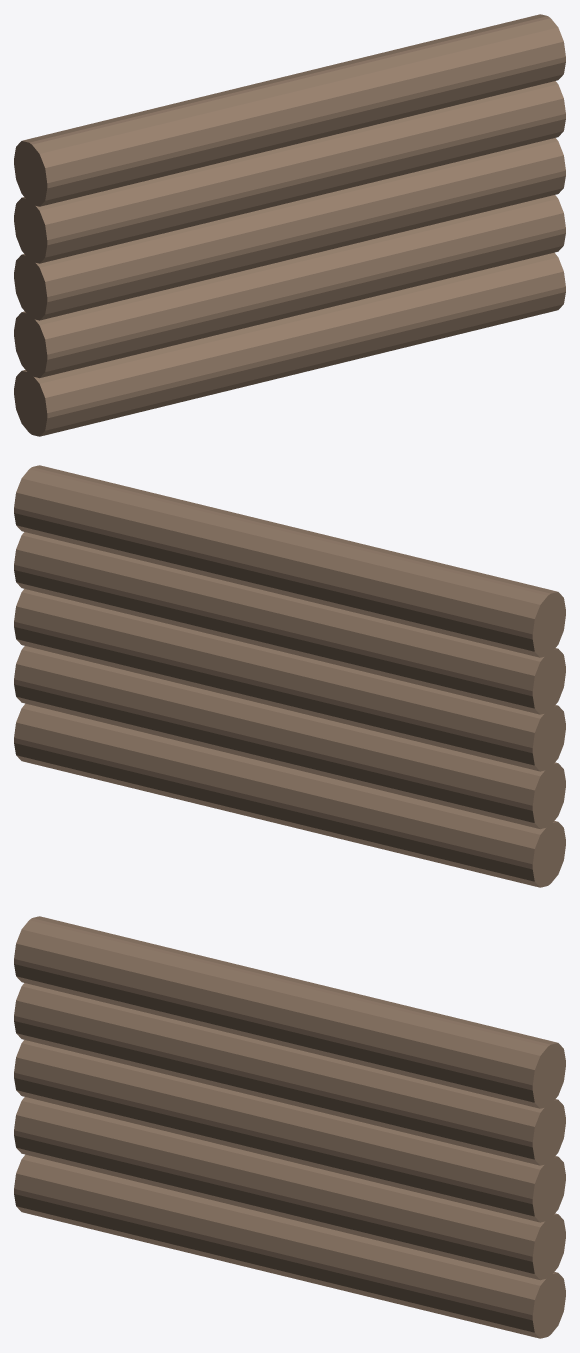
File: hut_wall.fbx
3 views of the same model, one above another, from view 1: azimuth 30°, elevation 25°; view 2: azimuth 150°, elevation 25°; view 3: azimuth 330°, elevation 25° (orthographic).
Visible parts, largest first — view 1: LogWood; view 2: LogWood; view 3: LogWood.
Part boxes in pixels (x1=…): LogWood: x1=14, y1=14, x2=565, y2=436; LogWood: x1=14, y1=465, x2=565, y2=887; LogWood: x1=14, y1=916, x2=565, y2=1338.
Bounding box in the file's own units: 1803 × 964 × 200.
